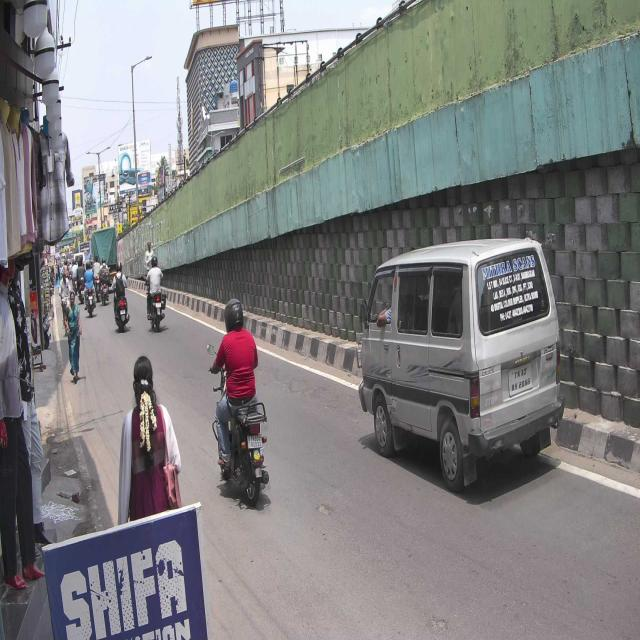single_rider: (207, 294, 269, 508)
